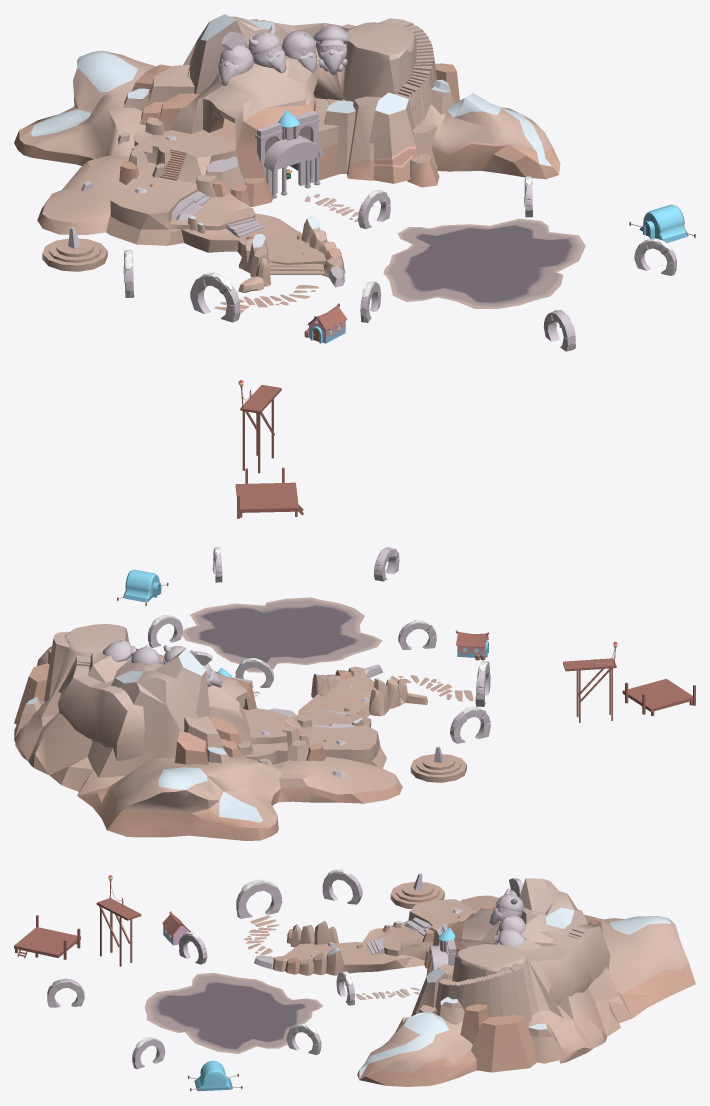
Rendered from Neighborhood_CoralCove_03.fbx.
The picture shows the model from 3 angles, top to bottom: view 1: azimuth 30°, elevation 25°; view 2: azimuth 150°, elevation 25°; view 3: azimuth 270°, elevation 25°; orthographic projection. The views are drawn at different scales.
Parts seen in each view (by area): view 1: Neighborhood_CoralCove_03; view 2: Neighborhood_CoralCove_03; view 3: Neighborhood_CoralCove_03.
Part boxes in pixels (x1,y1,x2,y2): Neighborhood_CoralCove_03: (14,14,695,518); Neighborhood_CoralCove_03: (14,547,695,840); Neighborhood_CoralCove_03: (14,869,695,1091).
Bounding box in the file's own units: 3983 × 1465 × 5148.
